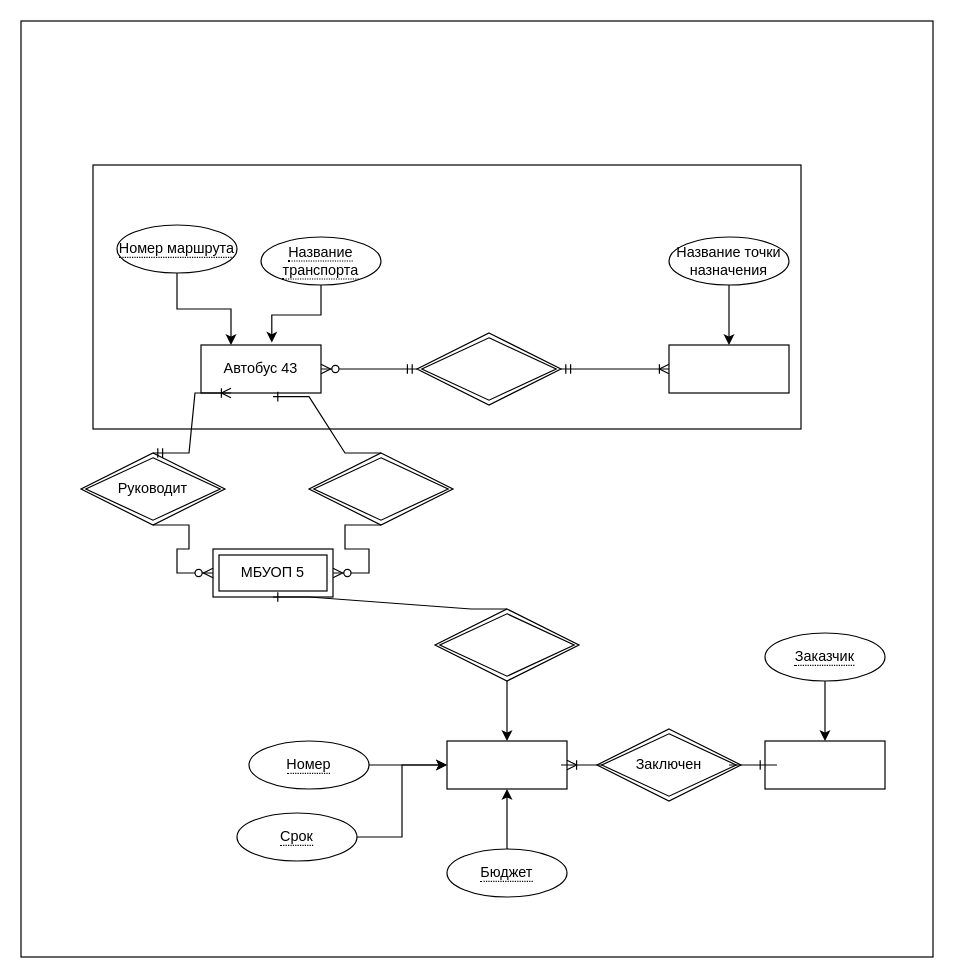
Image size: 954x978. Some labels were removed from this diagram. Each missing label, with the centre of its shape:
Входит с состав: the point at 380,488
Выполняет: the point at 506,644
Гос. заказ: the point at 506,764
Государство: the point at 824,764
едет в: the point at 488,368
Совесткий район: the point at 728,368
